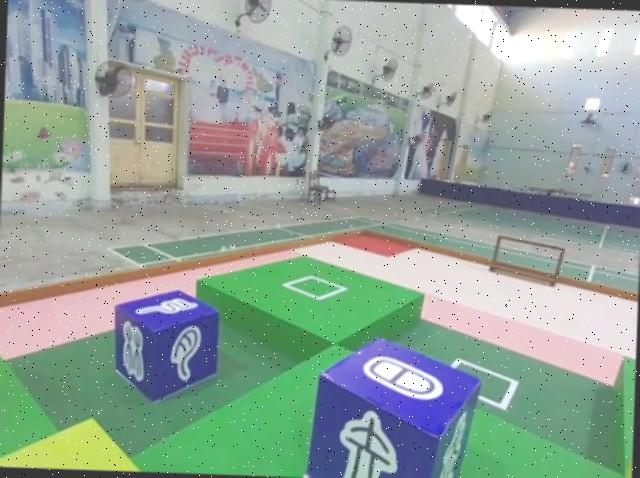R2 Fake Blue: (306, 334, 482, 478), (113, 289, 224, 407)
